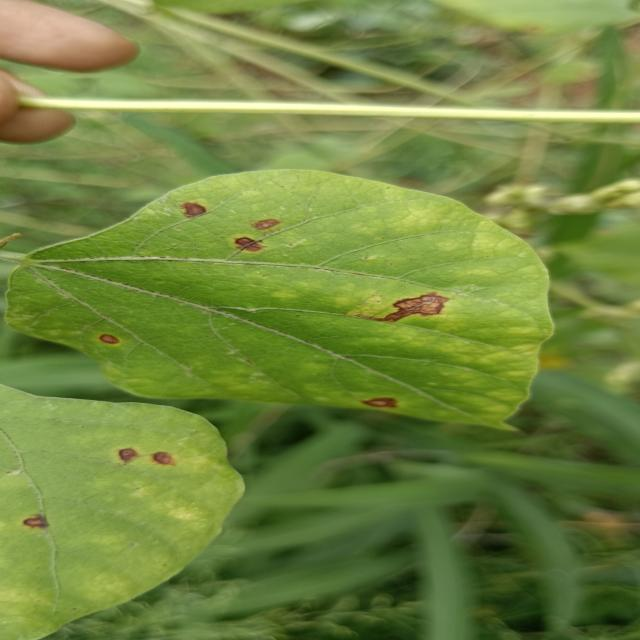Dolicos bean_cercospora leaf spot: (4, 164, 551, 436)
